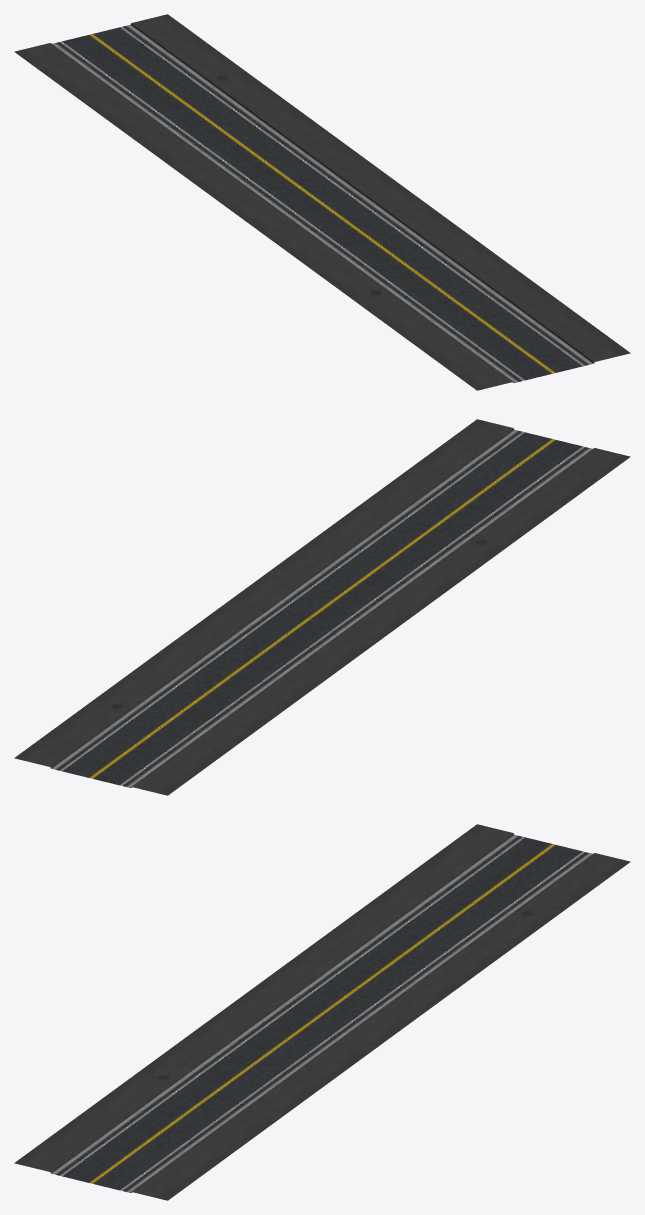
File: city_road_US_cont_marking.fbx
The picture shows the model from 3 angles, top to bottom: view 1: azimuth 30°, elevation 25°; view 2: azimuth 150°, elevation 25°; view 3: azimuth 330°, elevation 25°; orthographic projection.
Parts seen in each view (by area): view 1: obj0; view 2: obj0; view 3: obj0.
Boxes of the visible parts, x1,y1,x2,y2 form: obj0: (14,14,630,390); obj0: (14,419,630,795); obj0: (14,824,630,1200).
Size of the model in its own units: 29.21 by 0.254 by 152.
